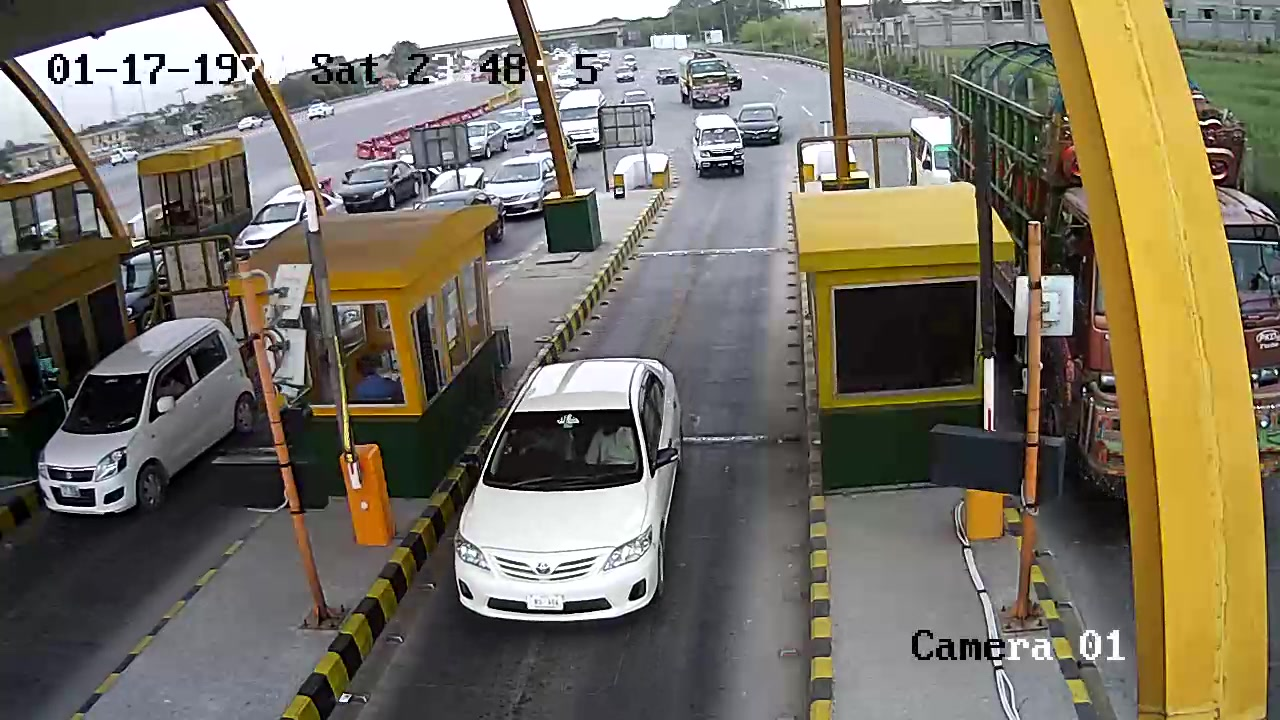F1: (446, 339, 701, 639)
